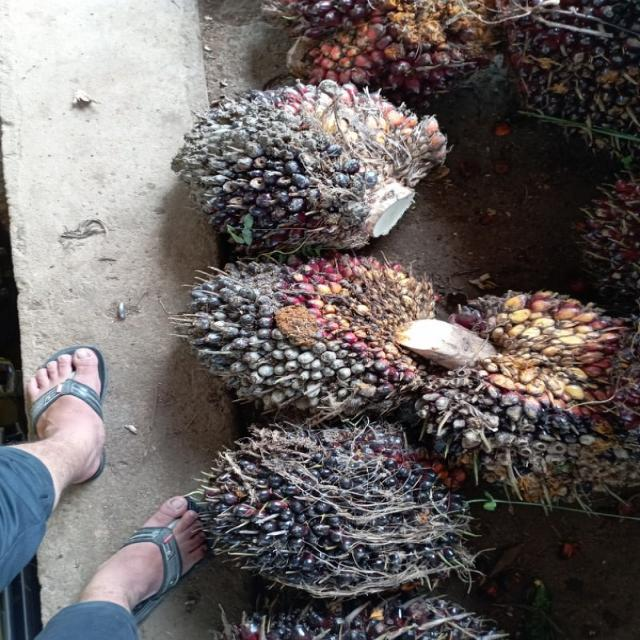fraksi 00: (419, 283, 635, 515), (196, 416, 474, 596), (169, 72, 444, 244), (184, 257, 443, 420)
